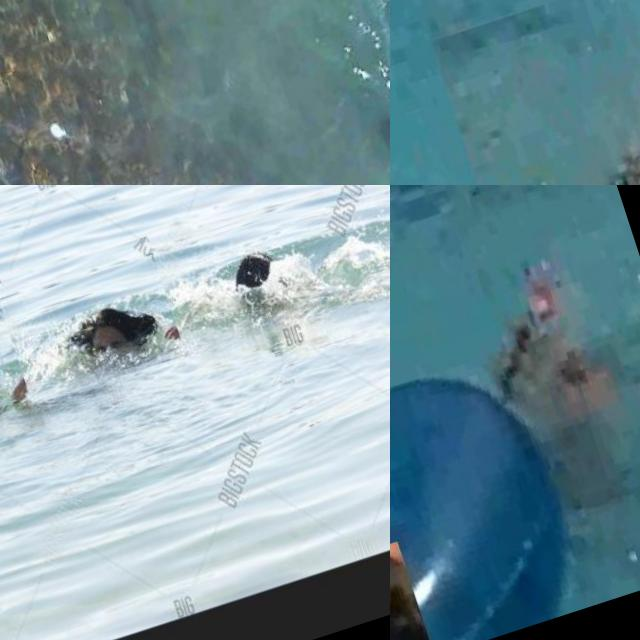drowning: (438, 205, 640, 478), (431, 0, 640, 185), (0, 235, 188, 405), (180, 192, 373, 356)
swimming: (390, 540, 436, 640), (369, 82, 390, 184)
